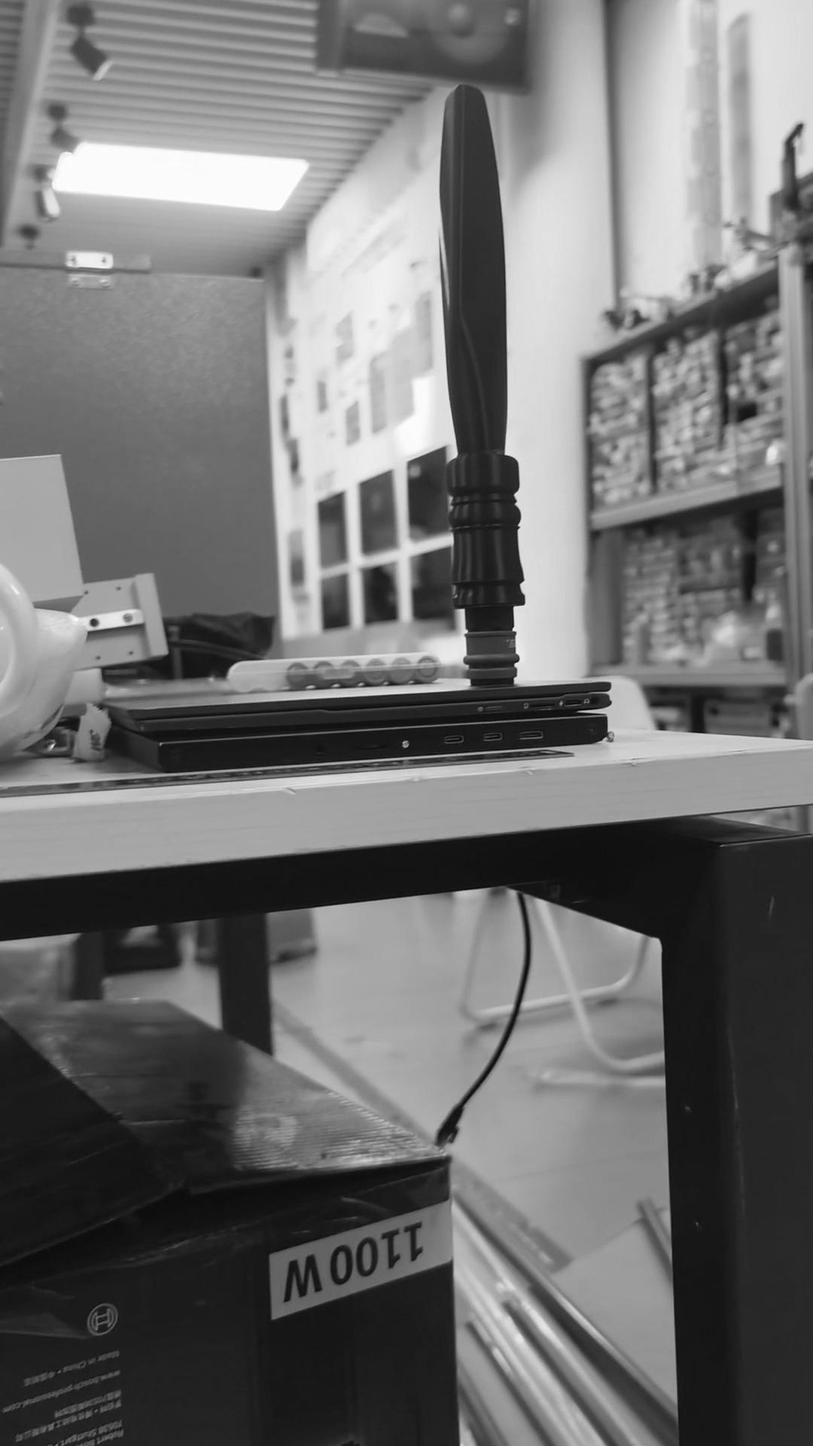base: (457, 623, 525, 691)
